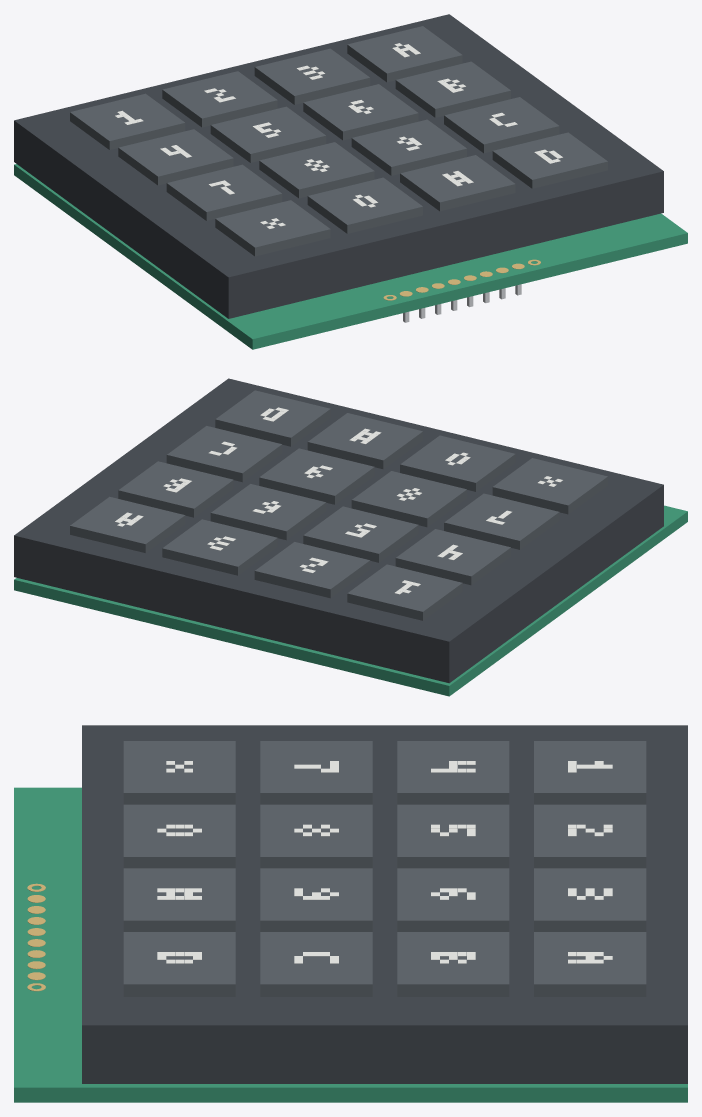
The model's file is keypad-4x4.glb.
3 views of the same model, one above another, from view 1: azimuth 30°, elevation 25°; view 2: azimuth 150°, elevation 25°; view 3: azimuth 270°, elevation 25° (orthographic). The views are drawn at different scales.
Parts seen in each view (by area): view 1: Khung phím, PCB keypad, Phím 0, Phím D, Phím *, Phím #, Phím 7, Phím 3, Phím 5, Phím 2, Phím A, Phím 4 (+6 smaller); view 2: Khung phím, PCB keypad, Phím 2, Phím 3, Phím 1, Phím A, Phím 6, Phím C, Phím 4, Phím 5, Phím 7, Phím * (+6 smaller); view 3: Khung phím, PCB keypad, Phím A, Phím B, Phím 8, Phím C, Phím D, Phím 2, Phím 5, Phím 0, Phím 1, Phím 3 (+6 smaller).
Part boxes in pixels (box(x1,y1,x2,y2)): Khung phím: box(14, 14, 663, 318); PCB keypad: box(14, 164, 687, 349); Phím 0: box(307, 177, 422, 233); Phím D: box(492, 132, 607, 188); Phím *: box(215, 200, 330, 256); Phím #: box(400, 155, 515, 211); Phím 7: box(166, 164, 282, 220); Phím 3: box(254, 48, 370, 104); Phím 5: box(210, 106, 326, 162); Phím 2: box(162, 71, 277, 127); Phím A: box(347, 26, 462, 82); Phím 4: box(118, 129, 233, 185); Khung phím: box(14, 378, 663, 683); PCB keypad: box(14, 505, 687, 696); Phím 2: box(254, 542, 370, 598); Phím 3: box(162, 519, 277, 575); Phím 1: box(347, 564, 462, 620); Phím A: box(70, 496, 185, 552); Phím 6: box(210, 484, 326, 540); Phím C: box(166, 426, 282, 482); Phím 4: box(395, 529, 510, 585); Phím 5: box(303, 506, 418, 562); Phím 7: box(444, 493, 559, 549); Phím *: box(492, 458, 607, 514); Khung phím: box(82, 725, 687, 1083); PCB keypad: box(14, 787, 687, 1102); Phím A: box(534, 932, 646, 996); Phím B: box(397, 932, 509, 996); Phím 8: box(260, 804, 372, 868); Phím C: box(260, 932, 372, 996); Phím D: box(123, 932, 235, 996); Phím 2: box(534, 804, 646, 868); Phím 5: box(397, 804, 509, 868); Phím 0: box(123, 804, 235, 868); Phím 1: box(534, 741, 646, 804); Phím 3: box(534, 868, 646, 931).
Bounding box in the file's own units: 0.069 × 0.0123 × 0.0655.
